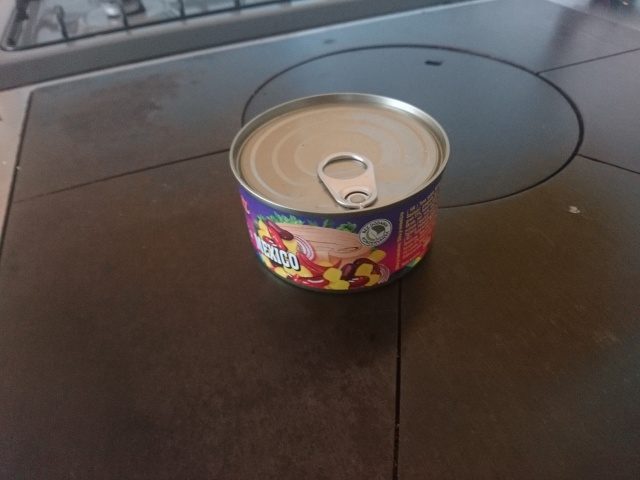Giana Tuna Salad Mexico 185g: (225, 88, 453, 298)
